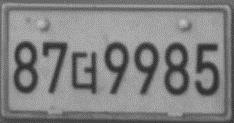5: (192, 41, 220, 97)
7: (41, 40, 69, 94)
8: (162, 40, 189, 95), (12, 39, 38, 94)
9: (103, 42, 130, 95), (133, 42, 160, 95)
더: (70, 50, 98, 95)
